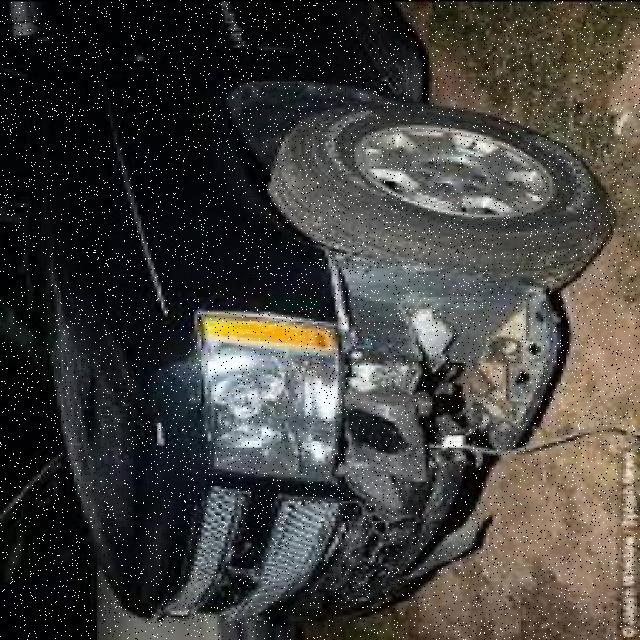damage: (273, 256, 561, 625)
